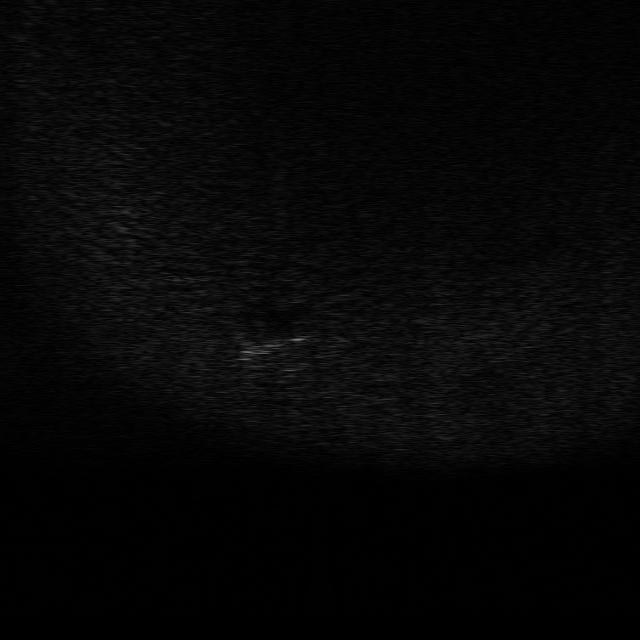plane: (230, 328, 321, 360)
